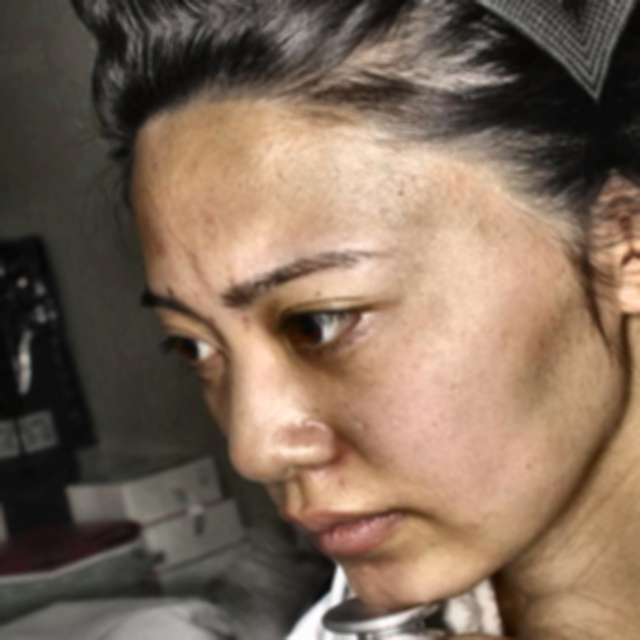comedone: (231, 309, 261, 337), (154, 233, 168, 256)
